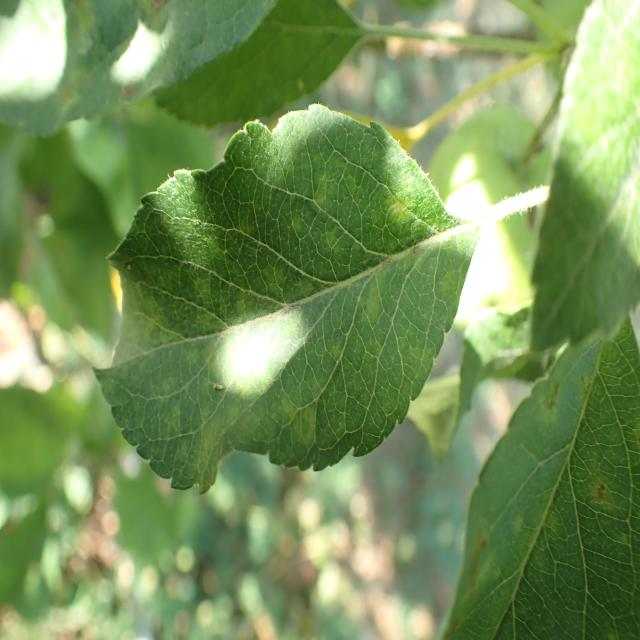scab: (112, 172, 471, 408), (468, 316, 615, 637), (22, 0, 235, 132)
